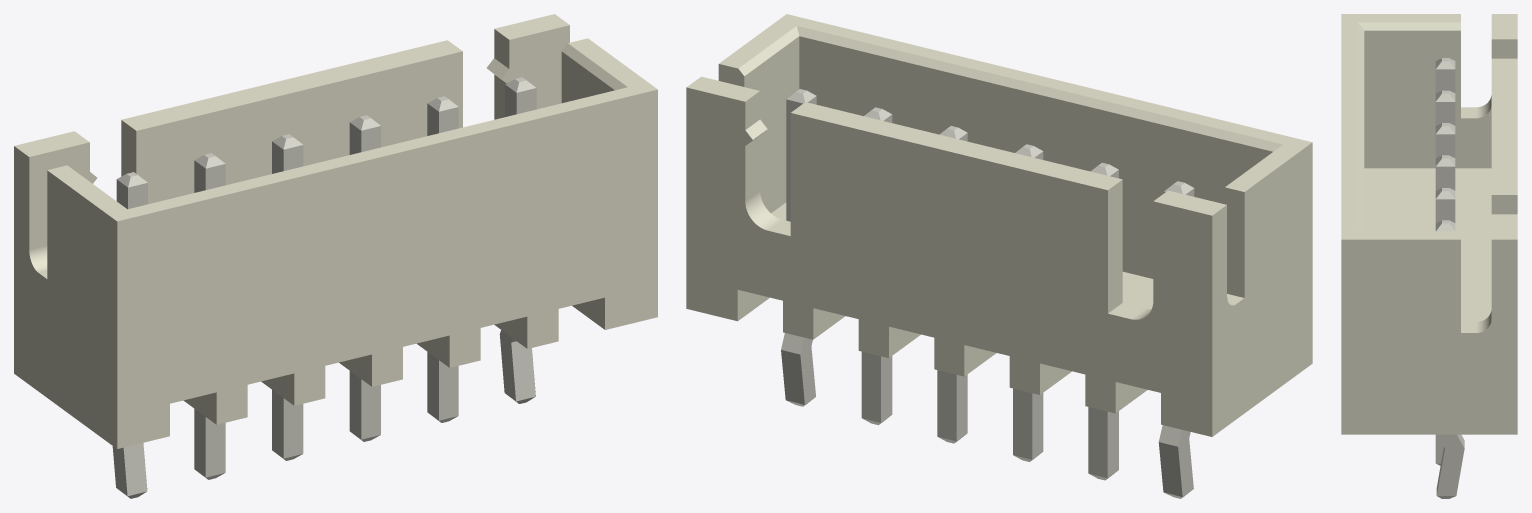
Rendered from jst_xh_b6b_xh_a_1x06_p2_50mm_vertical.glb.
3 views of the same model, side by side, from view 1: azimuth 30°, elevation 25°; view 2: azimuth 150°, elevation 25°; view 3: azimuth 270°, elevation 25° (orthographic). The views are drawn at different scales.
Parts seen in each view (by area): view 1: conn_jst_xh_6p, pin_6, pin_4, pin_2, pin_5, pin_3, pin_1; view 2: conn_jst_xh_6p, pin_5, pin_1, pin_6, pin_4, pin_2, pin_3; view 3: conn_jst_xh_6p, pin_6, pin_5.
Boxes of the visible parts, x1,y1,x2,y2 form: conn_jst_xh_6p: [14, 14, 657, 448]; pin_6: [499, 330, 535, 403]; pin_4: [349, 371, 380, 441]; pin_2: [194, 409, 225, 479]; pin_5: [427, 352, 458, 422]; pin_3: [272, 390, 303, 460]; pin_1: [112, 443, 147, 498]; conn_jst_xh_6p: [686, 14, 1312, 436]; pin_5: [861, 351, 892, 425]; pin_1: [1158, 425, 1193, 498]; pin_6: [781, 333, 815, 406]; pin_4: [937, 370, 967, 443]; pin_2: [1088, 407, 1118, 480]; pin_3: [1013, 388, 1043, 461]; conn_jst_xh_6p: [1341, 14, 1517, 434]; pin_6: [1436, 434, 1464, 498]; pin_5: [1435, 434, 1443, 465].
Bounding box in the file's own units: 0.0174 × 0.0104 × 0.00575.
